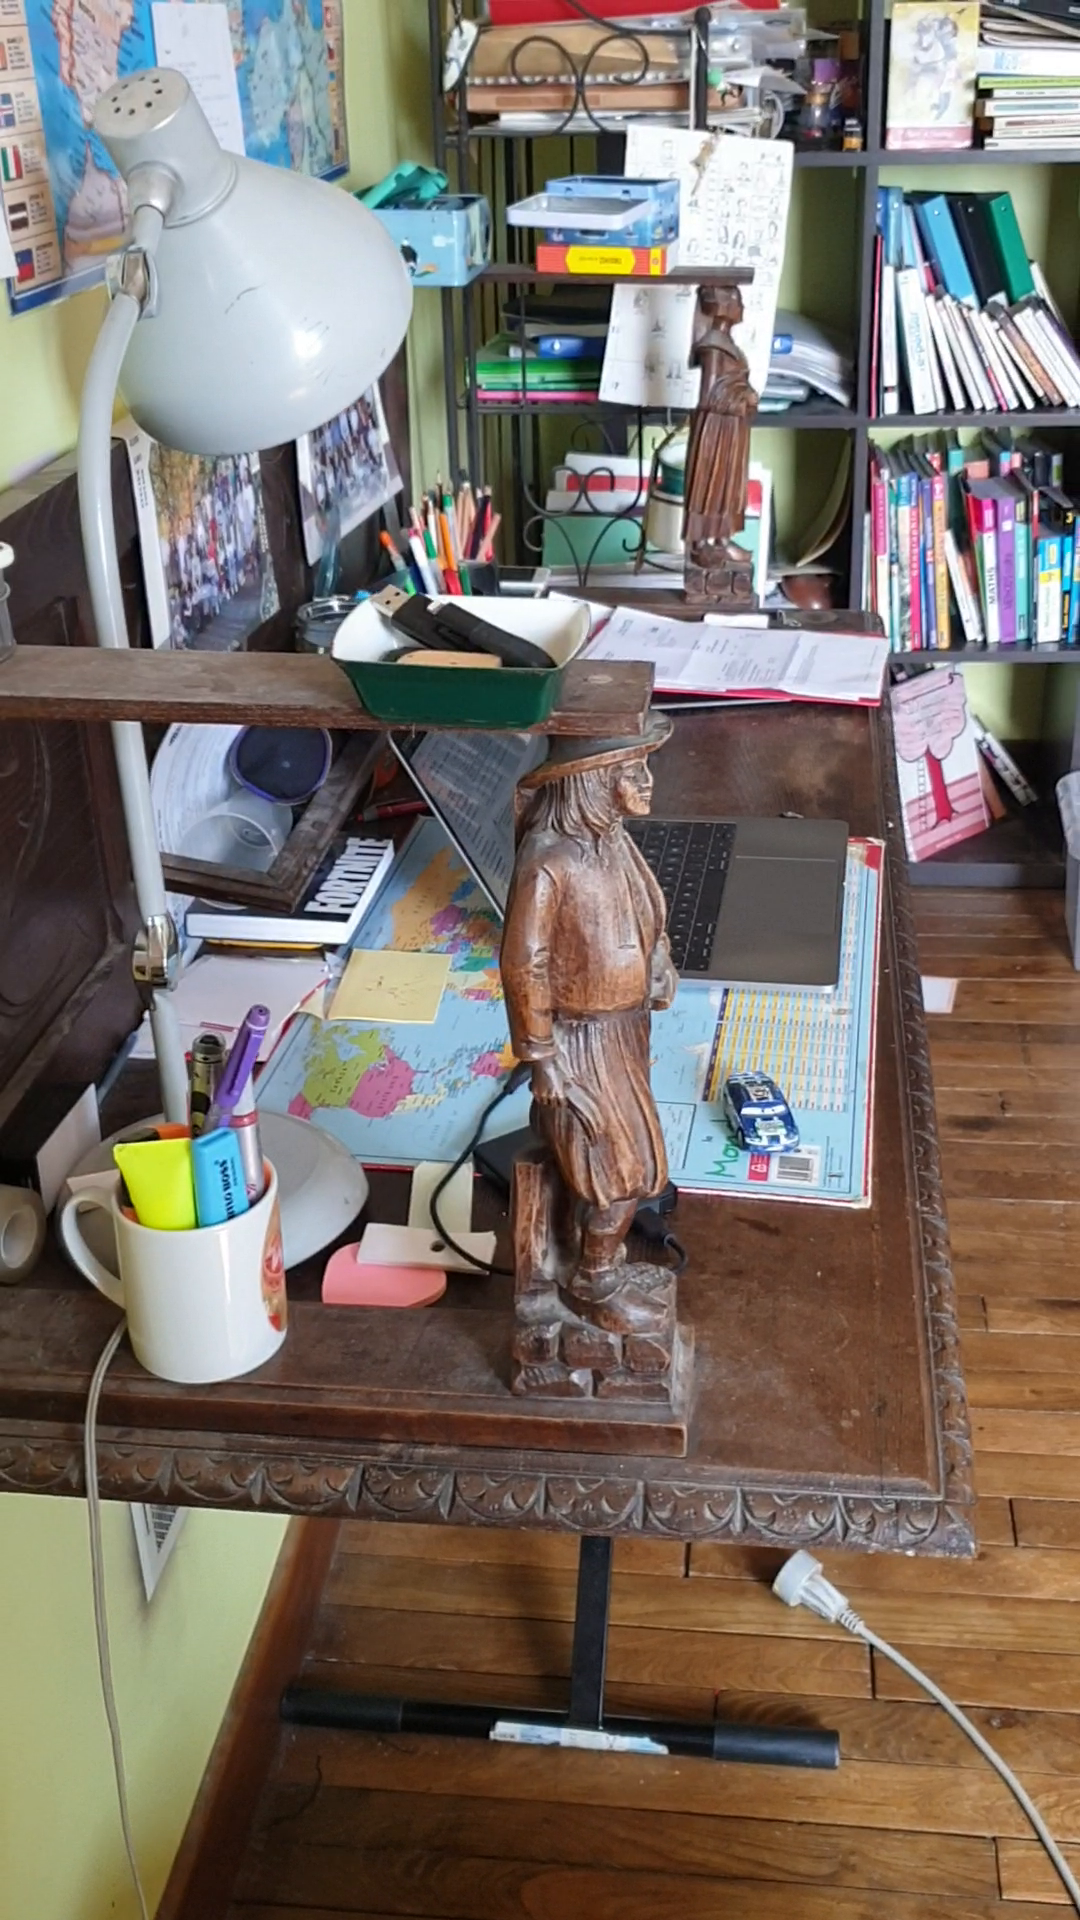cars: (719, 1071, 803, 1153)
